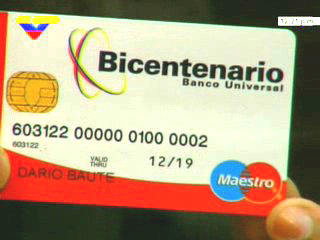tarjeta: (1, 11, 297, 217)
